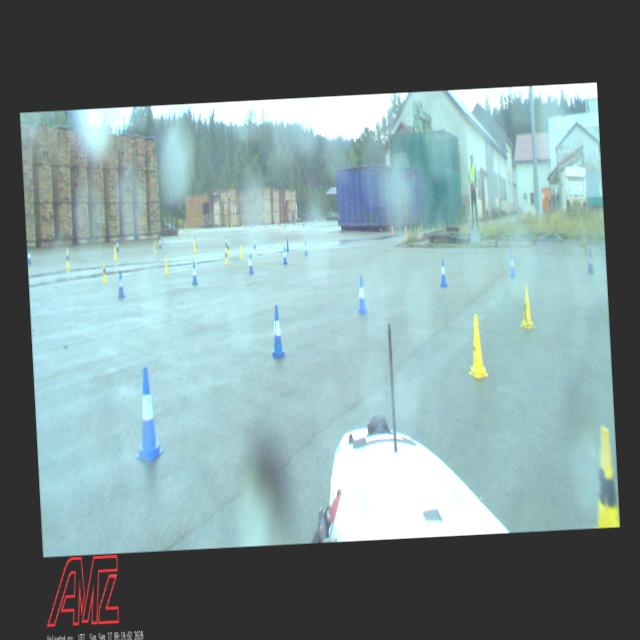blue_cone: (130, 367, 164, 462), (270, 305, 286, 358), (357, 276, 368, 314), (438, 258, 448, 287), (118, 270, 126, 298), (508, 252, 516, 277), (586, 248, 594, 273), (191, 262, 199, 285), (248, 254, 255, 274), (282, 247, 288, 264), (27, 248, 32, 264), (304, 240, 308, 256), (286, 238, 290, 252), (224, 235, 228, 248), (252, 237, 256, 249), (116, 240, 120, 252), (158, 238, 162, 250)
orange_cone: (392, 225, 394, 234), (405, 226, 407, 234), (246, 225, 248, 233), (307, 224, 309, 232), (262, 225, 264, 232), (278, 225, 280, 232), (292, 226, 294, 233)
yellow_cone: (592, 426, 620, 528), (466, 314, 488, 380), (518, 282, 535, 330), (101, 262, 108, 282), (64, 248, 70, 268), (163, 256, 169, 274), (112, 244, 118, 260), (192, 240, 198, 253), (224, 248, 228, 264), (240, 244, 243, 259), (227, 241, 230, 255), (154, 240, 157, 253)
